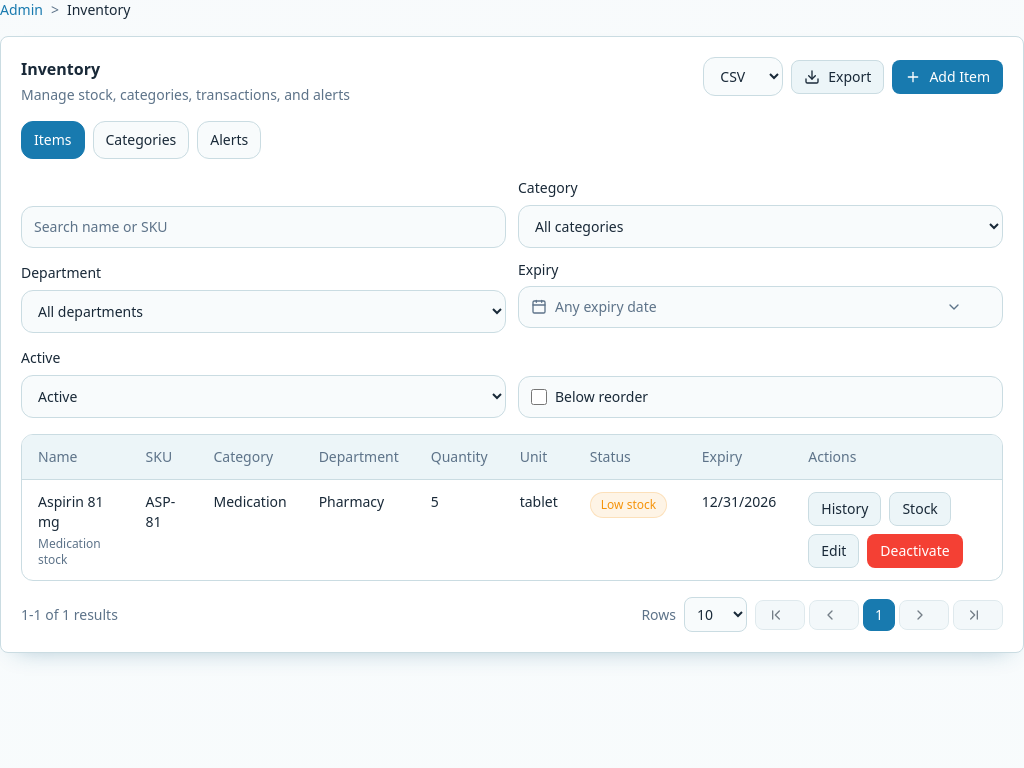
InventoryPage › supports category creation and alerts from the inventory backend
Expected: the text "Aspirin 81 mg" is shown, [38,492,114,532]
Click the button "Categories": (141, 140) [92,121,189,159]
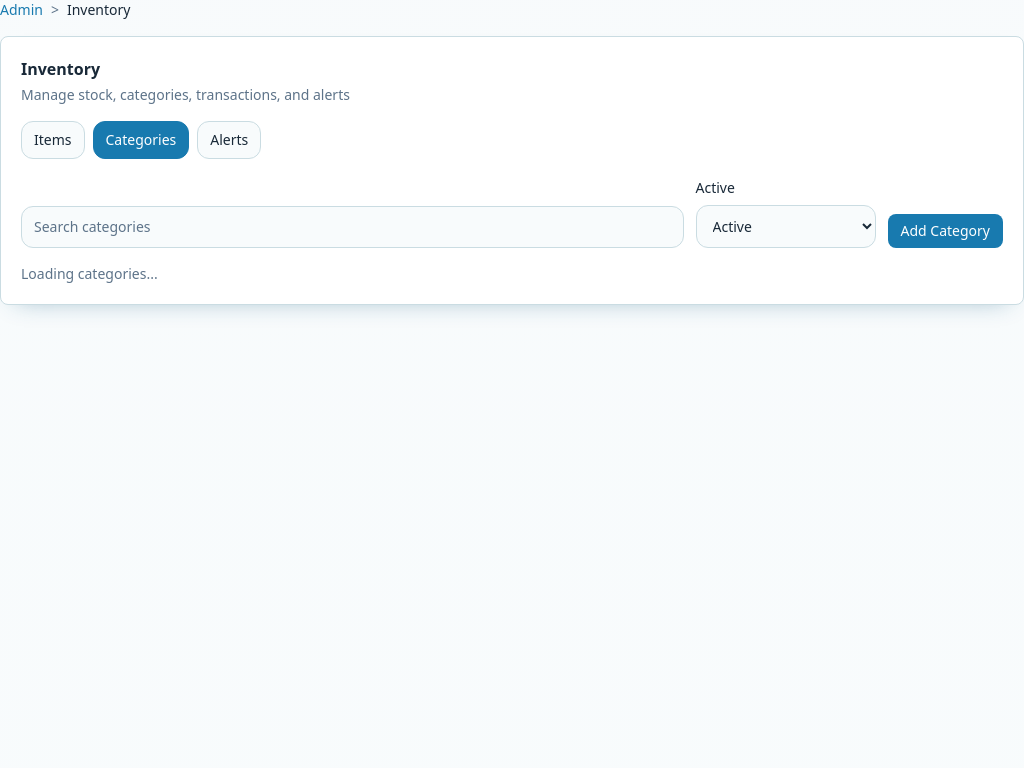
Click the button "Add Category": (945, 231) [888,214,1003,248]
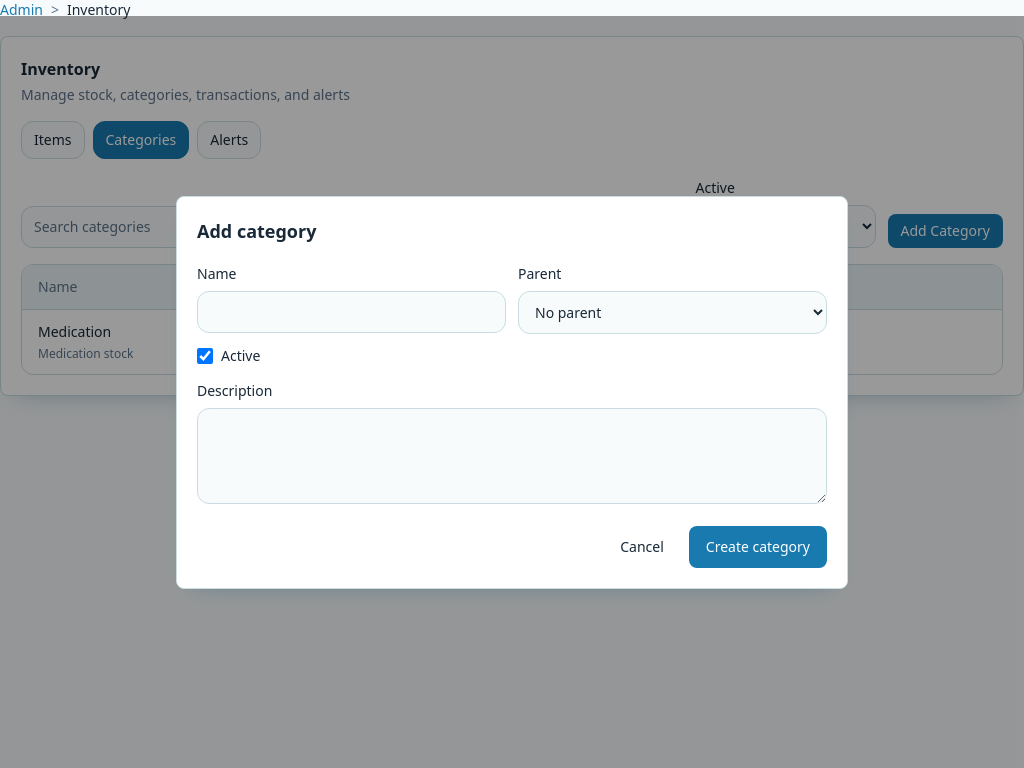
In the field with id "inventory-category-name": (352, 312) [197,290,506,332], type "Supplies"
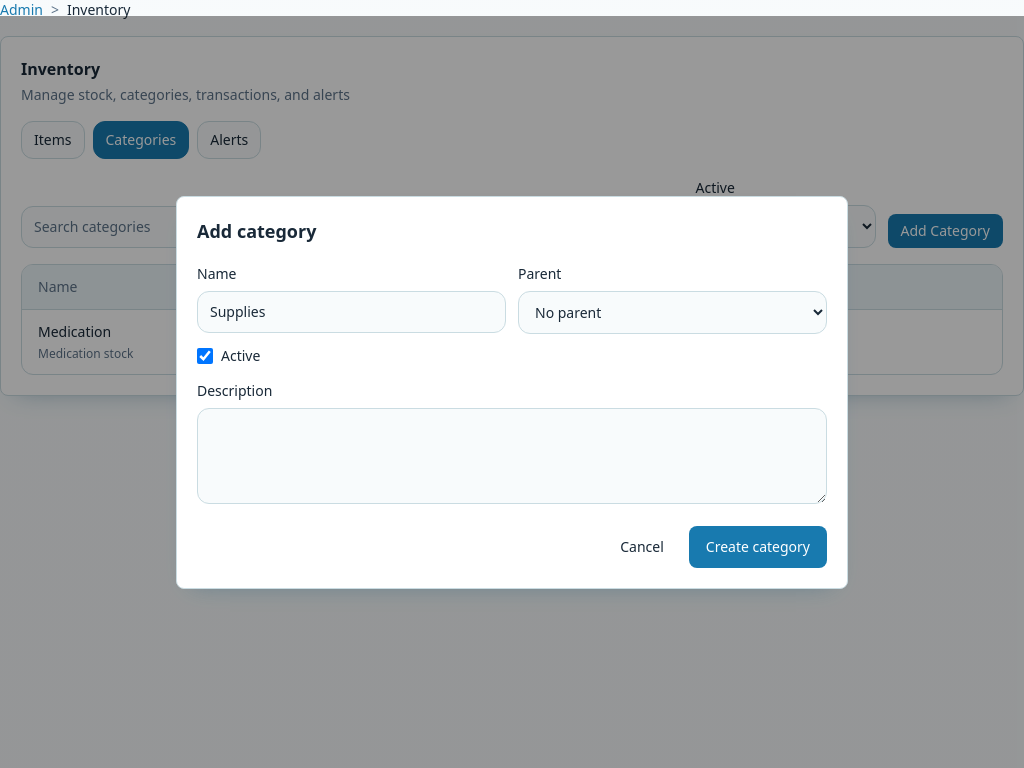
Click the button "Create category": (758, 546) [689,526,827,568]
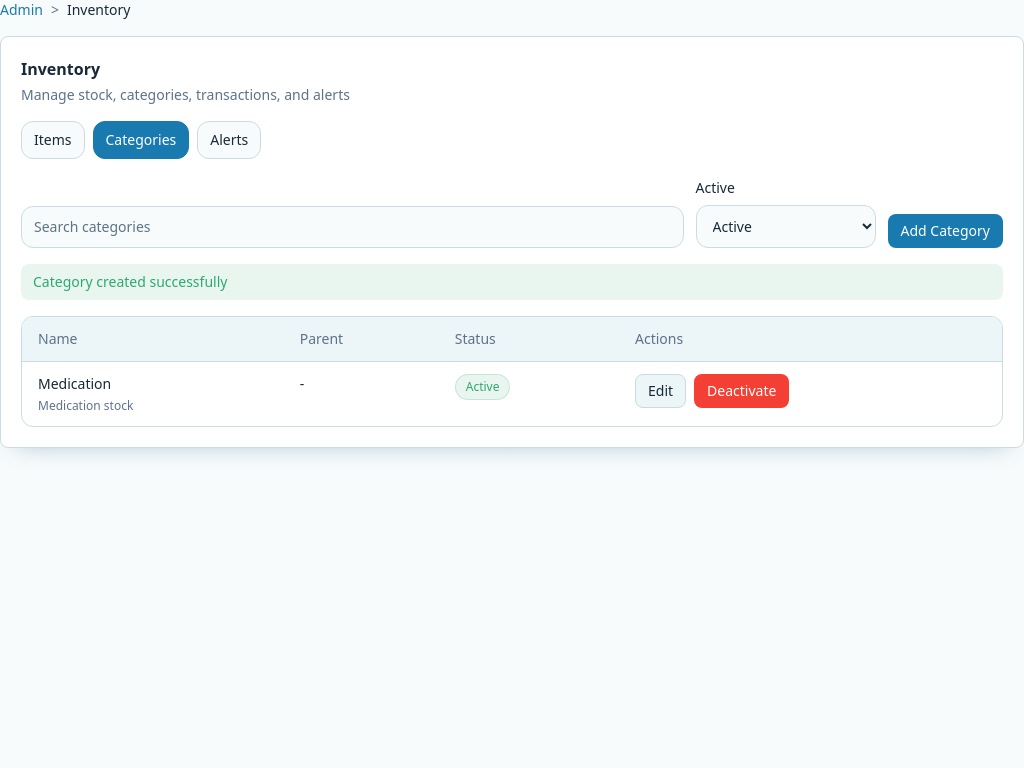
Click the button "Alerts": (229, 140) [197,121,261,159]
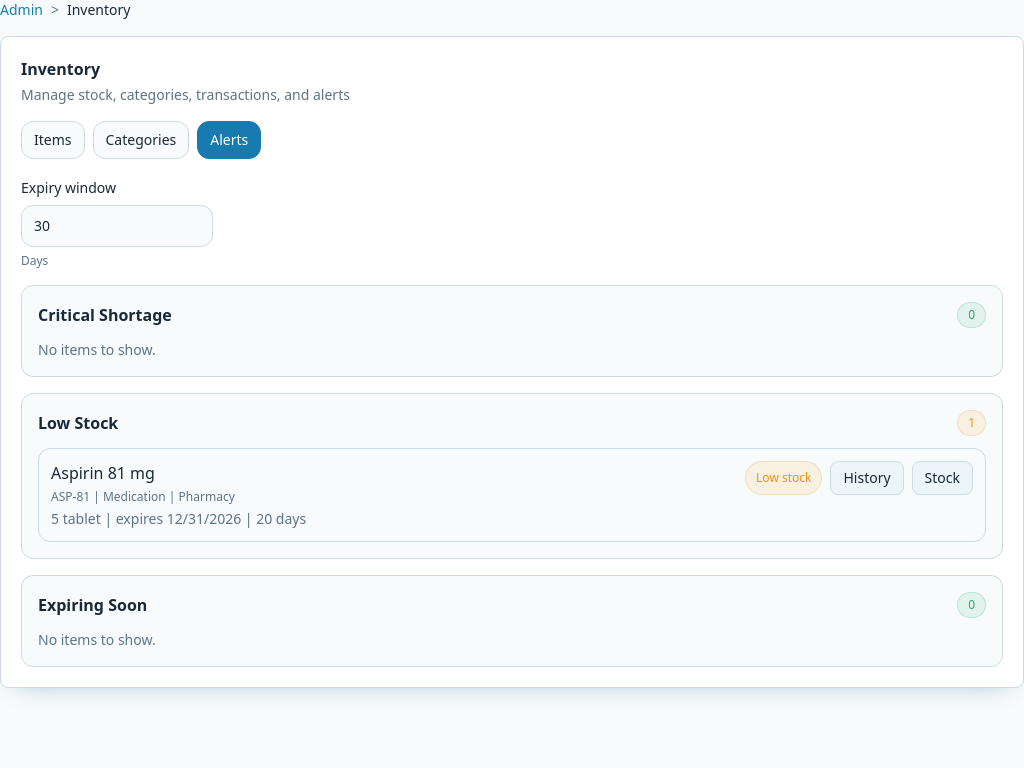
Now the heading "Critical Shortage" is shown, box [38,303,172,327]
Now the heading "Low Stock" is shown, box [38,411,118,435]
Now the heading "Expiring Soon" is shown, box [38,593,147,617]
